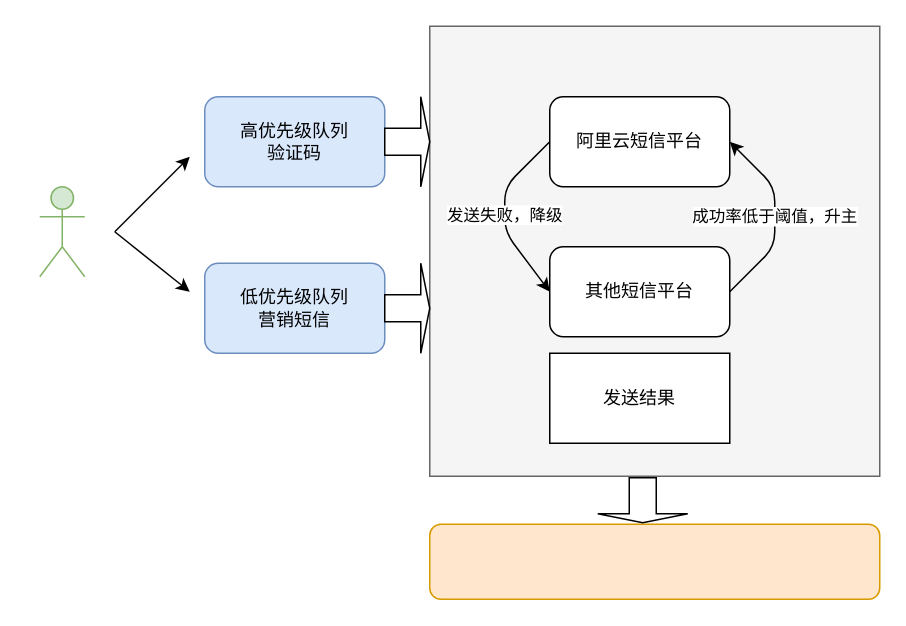
Some shapes in this 906 by 626 pixel diagram are drawn without their labels. The shapes that lost their labels are listed below. From the top down, each one's box as (x1, y1, x2, y2) in pixels, then its label:
(38, 185, 85, 277): 短信发送
(428, 523, 880, 599): mongo
